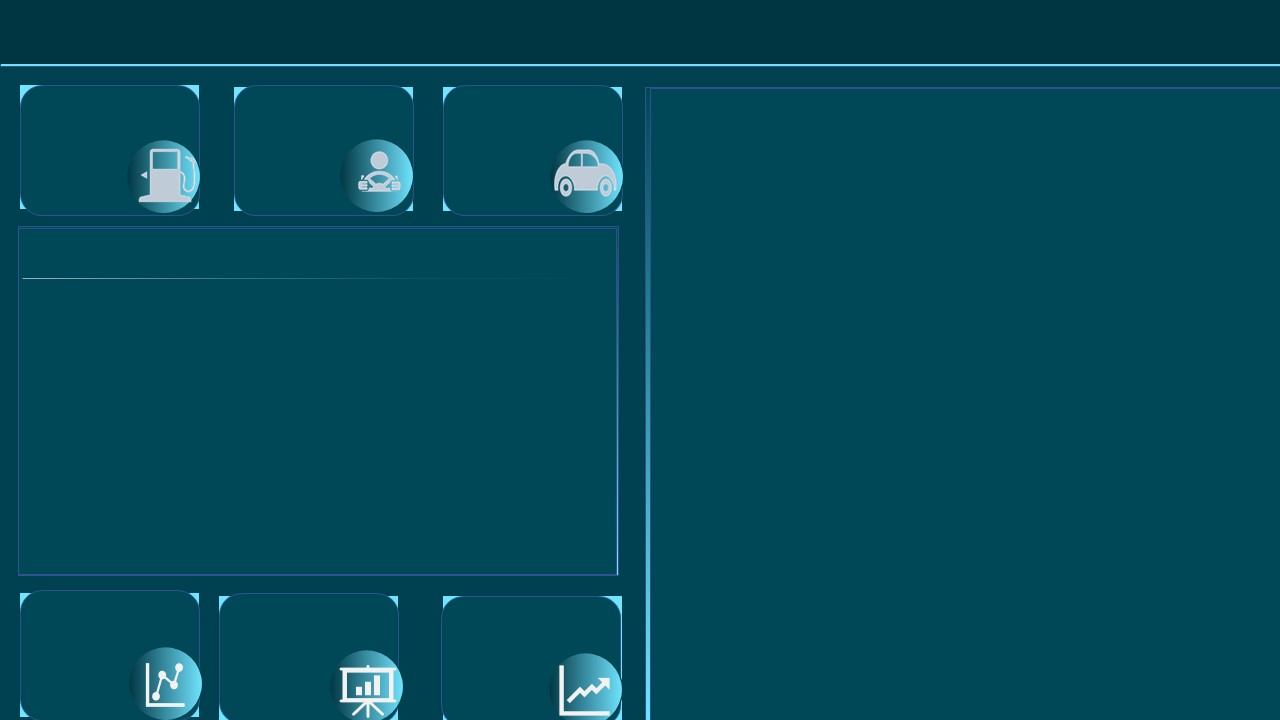

The page's visual inventory and layout, read from the dashboard file:
{"tool":"powerbi","page":{"name":"Home ","canvas":[1280,720],"ordinal":0},"visuals":[{"type":"textbox","box":[80.8,80.8,1133.7,279.8],"z":0}]}

Visuals, with their boxes in screenshot pixels (x1, y1, x2, y2), scaled from the page's 1280x720 canvas onto the 1280x720 screenshot:
textbox: x1=81 y1=81 x2=1214 y2=361
